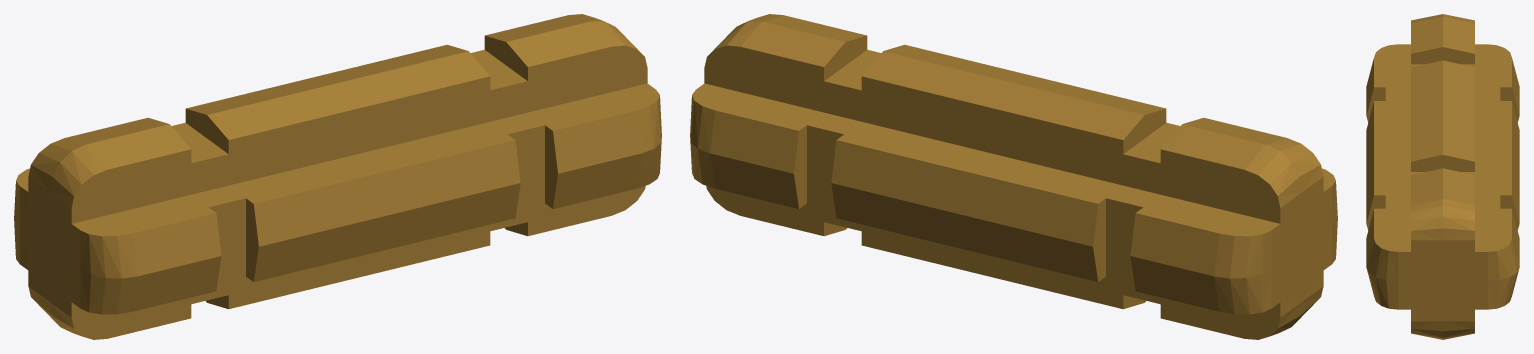
File: 32062 2M Cross Axle w Groove.dae
The picture shows the model from 3 angles, left to right: view 1: azimuth 30°, elevation 25°; view 2: azimuth 150°, elevation 25°; view 3: azimuth 270°, elevation 25°; orthographic projection. The views are drawn at different scales.
Parts seen in each view (by area): view 1: Part.0; view 2: Part.0; view 3: Part.0.
Boxes of the visible parts, <box> form: Part.0: <box>14,14,661,339</box>; Part.0: <box>690,14,1337,339</box>; Part.0: <box>1366,14,1519,339</box>.
Size of the model in its own units: 15.4 by 4.8 by 4.8.
